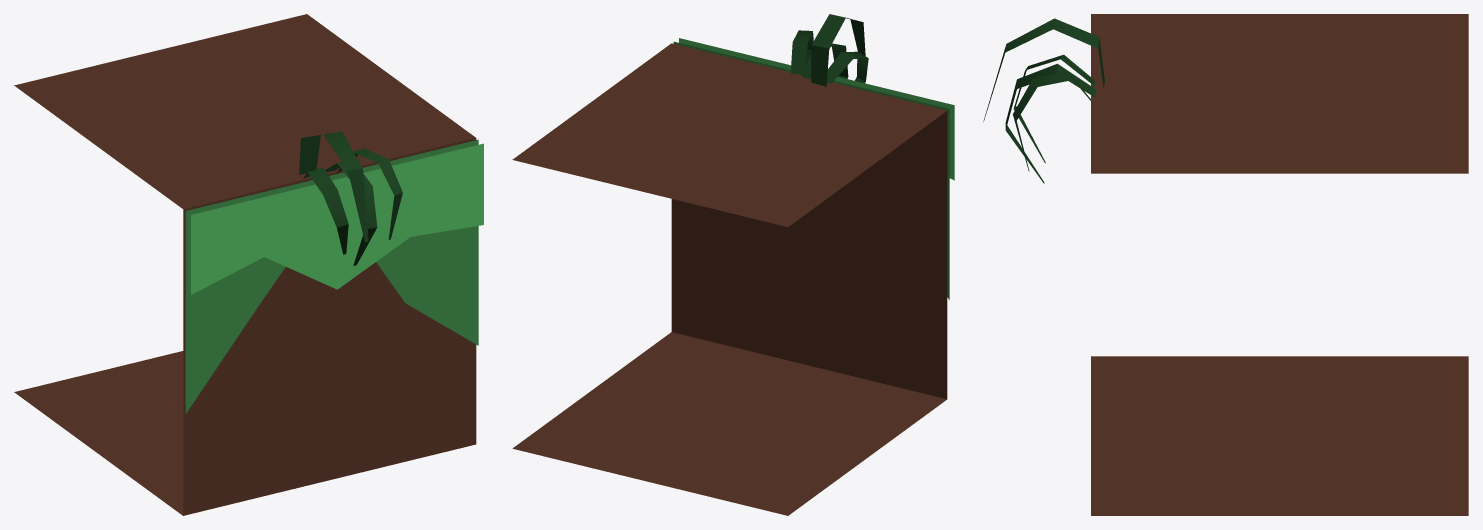
The model's file is Tile_Earth_Full_Middle_001.fbx.
3 renders of one model, left to right at view 1: azimuth 30°, elevation 25°; view 2: azimuth 150°, elevation 25°; view 3: azimuth 270°, elevation 25°, orthographic. The views are drawn at different scales.
Parts seen in each view (by area): view 1: Environment_Earth_Full; view 2: Environment_Earth_Full; view 3: Environment_Earth_Full.
Boxes of the visible parts, x1=… form: Environment_Earth_Full: x1=14, y1=14, x2=483, y2=515; Environment_Earth_Full: x1=512, y1=14, x2=954, y2=515; Environment_Earth_Full: x1=983, y1=14, x2=1468, y2=515.
Bounding box in the file's own units: 100 × 118 × 128.
